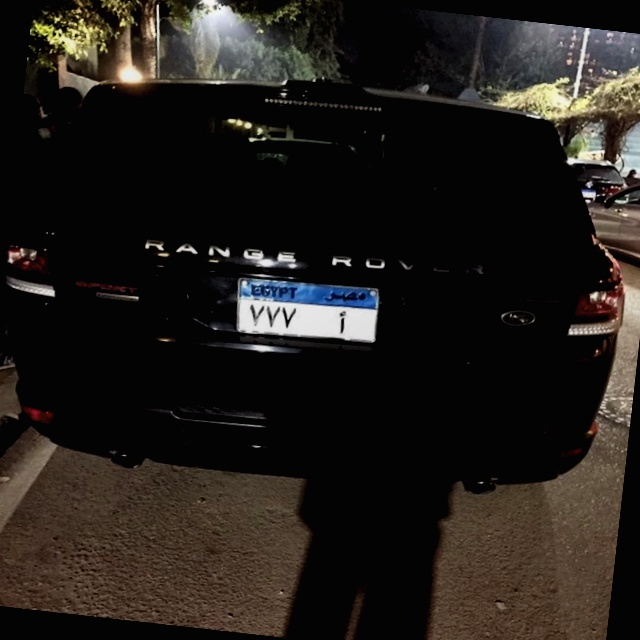License Plate: (228, 270, 385, 350)
